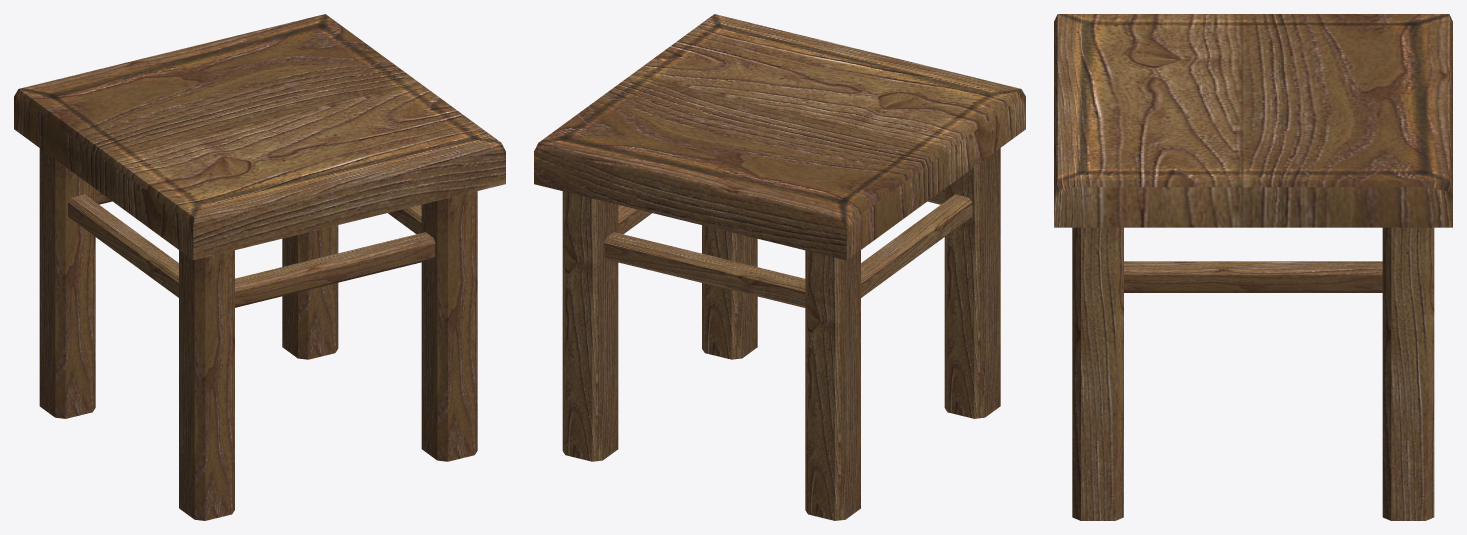
Rendered from Chair_4.FBX.
3 views of the same model, side by side, from view 1: azimuth 30°, elevation 25°; view 2: azimuth 150°, elevation 25°; view 3: azimuth 270°, elevation 25° (orthographic). The views are drawn at different scales.
Visible parts, largest first — view 1: Chair_4; view 2: Chair_4; view 3: Chair_4.
Boxes of the visible parts, x1,y1,x2,y2 form: Chair_4: (14, 14, 505, 520); Chair_4: (534, 14, 1025, 520); Chair_4: (1054, 14, 1452, 520).
Bounding box in the file's own units: 16.18 × 15.45 × 16.06.
